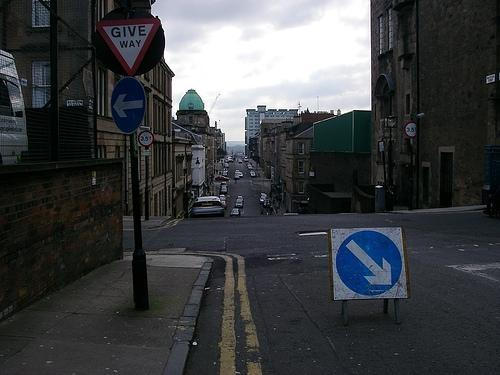car: (191, 195, 224, 218), (234, 198, 244, 208), (230, 208, 240, 217), (215, 176, 230, 182), (234, 170, 243, 180), (236, 194, 244, 204), (220, 200, 226, 210), (220, 182, 228, 189), (262, 199, 270, 206), (259, 196, 267, 202), (219, 194, 226, 200), (250, 169, 256, 176), (220, 190, 228, 195)
truck: (0, 50, 27, 163)
